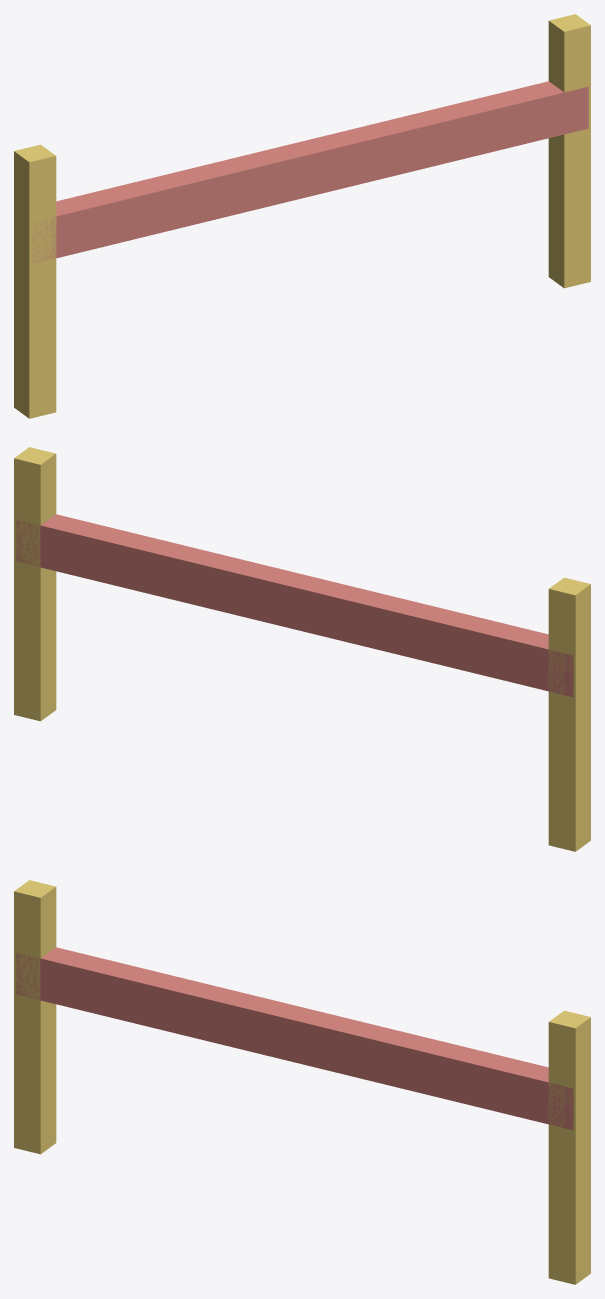
File: barrier_lod0.glb
3 views of the same model, one above another, from view 1: azimuth 30°, elevation 25°; view 2: azimuth 150°, elevation 25°; view 3: azimuth 330°, elevation 25° (orthographic).
Parts seen in each view (by area): view 1: barrier-node-2, barrier-node-0, barrier-node-1; view 2: barrier-node-2, barrier-node-0, barrier-node-1; view 3: barrier-node-2, barrier-node-1, barrier-node-0.
Part boxes in pixels (<box>): barrier-node-2: <box>32,81,588,263</box>; barrier-node-0: <box>14,144,56,418</box>; barrier-node-1: <box>548,14,590,288</box>; barrier-node-2: <box>16,514,573,697</box>; barrier-node-0: <box>548,577,590,851</box>; barrier-node-1: <box>14,447,56,721</box>; barrier-node-2: <box>16,947,573,1130</box>; barrier-node-1: <box>548,1010,590,1284</box>; barrier-node-0: <box>14,880,56,1154</box>.
Size of the model in its own units: 2.52 by 1.1 by 0.12.
